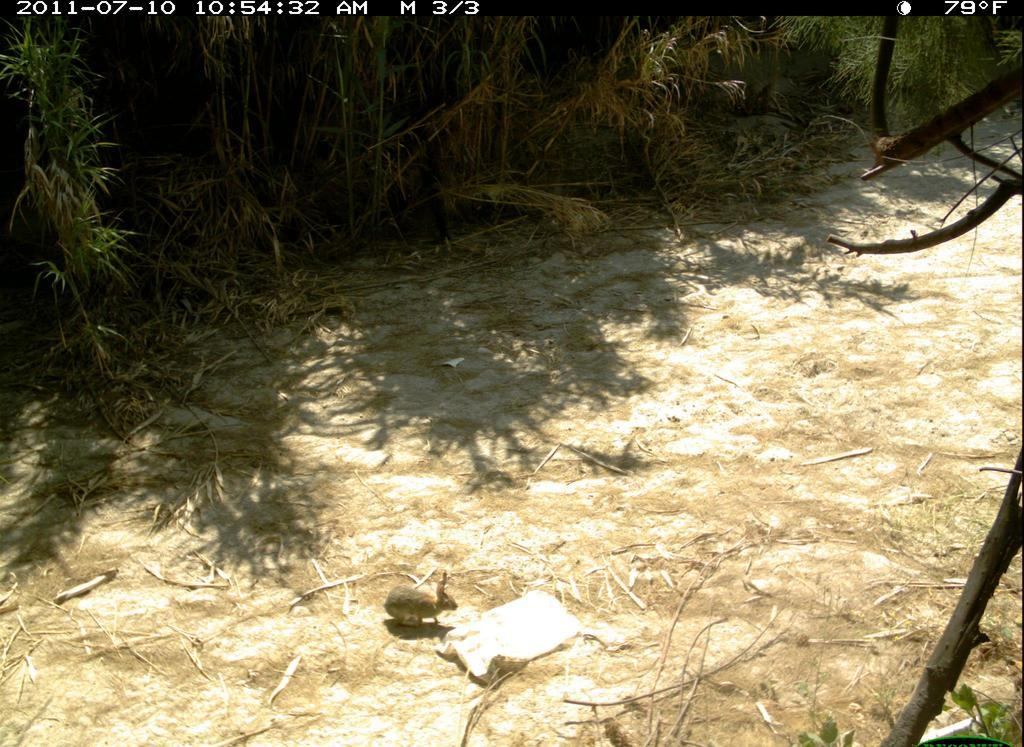rabbit: (381, 573, 470, 637)
